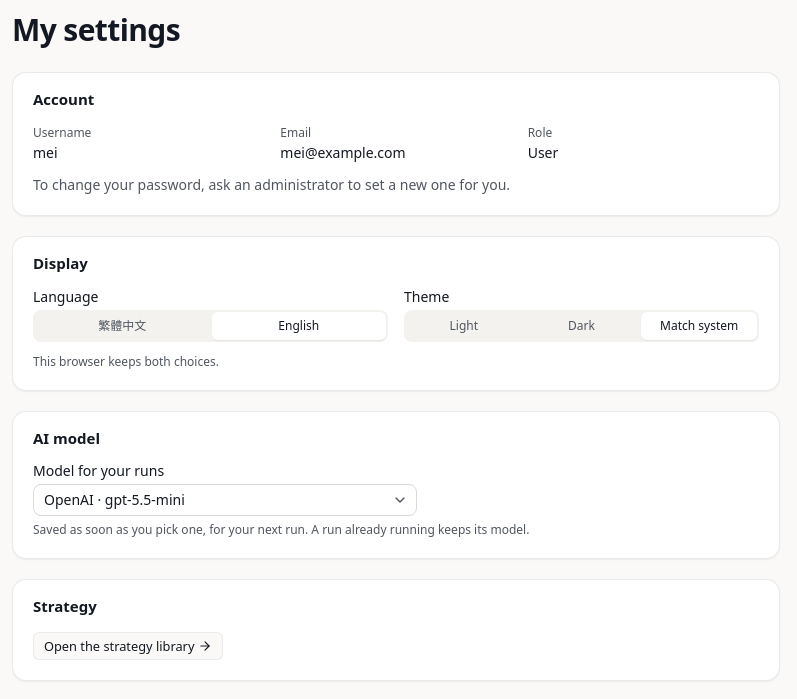
it: My settings › saves the site’s default as no choice, so the user follows the administrator’s later changes
The image size is (797, 699).
Step 1. Click the dropdown named "Model for your runs" → [114, 499], box [33,484,417,516]
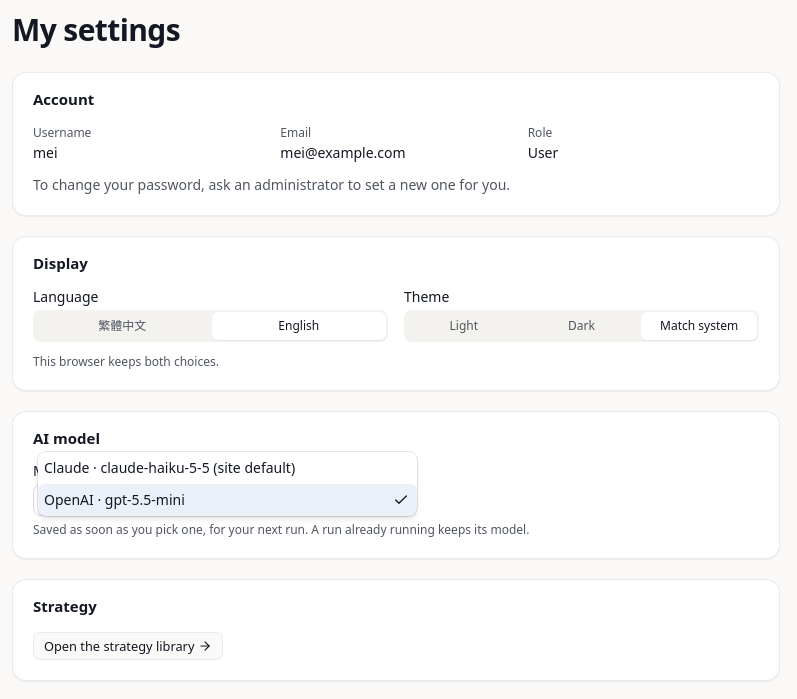
Step 2. Click the option "Claude · claude-haiku-5-5 (site default)" → [170, 467], box [44,458,295,477]
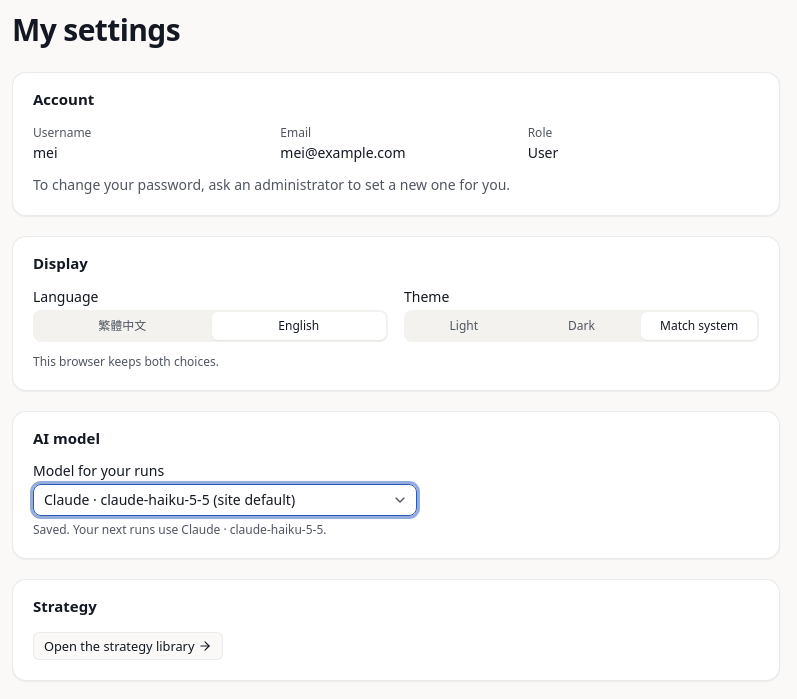
Expected: the text "Saved. Your next runs use Claude · claude-haiku-5-5." is shown, [33,521,326,538]
